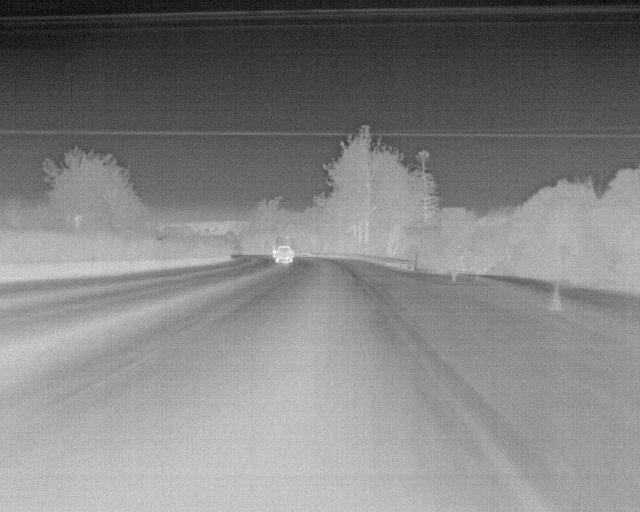car: (274, 242, 294, 262)
